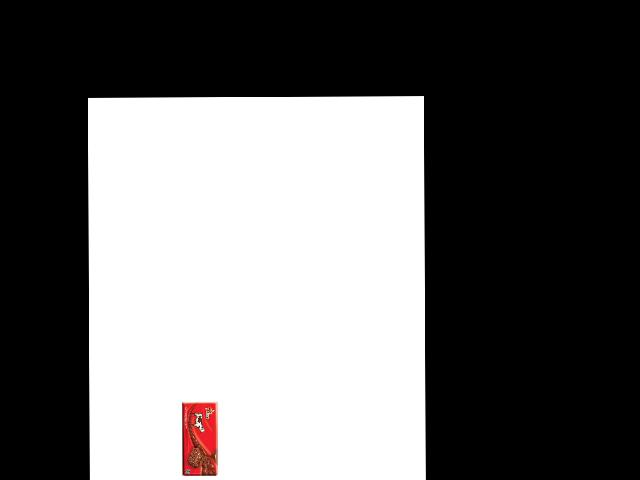chocolate: (188, 408, 225, 478)
